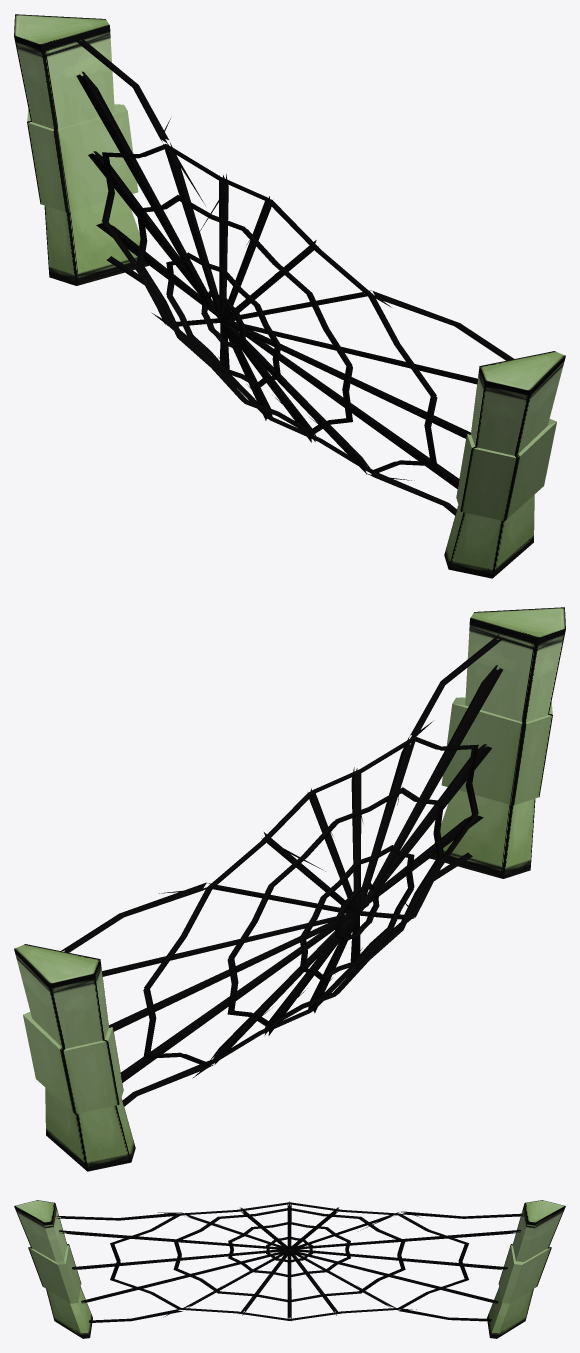
The model's file is bouncy_wall_state4.FBX.
The picture shows the model from 3 angles, top to bottom: view 1: azimuth 30°, elevation 25°; view 2: azimuth 150°, elevation 25°; view 3: azimuth 270°, elevation 25°; orthographic projection. The views are drawn at different scales.
Visible parts, largest first — view 1: Box103, Torus008; view 2: Box103, Torus008; view 3: Torus008, Box103.
Boxes of the visible parts, x1,y1,x2,y2 form: Box103: (14,14,565,578); Torus008: (74,36,513,515); Box103: (14,607,565,1171); Torus008: (61,634,503,1106); Torus008: (55,1201,525,1322); Box103: (14,1200,565,1338).
Bounding box in the file's own units: 0.2915 × 0.5141 × 2.15.
3 materials, 2 textured.
